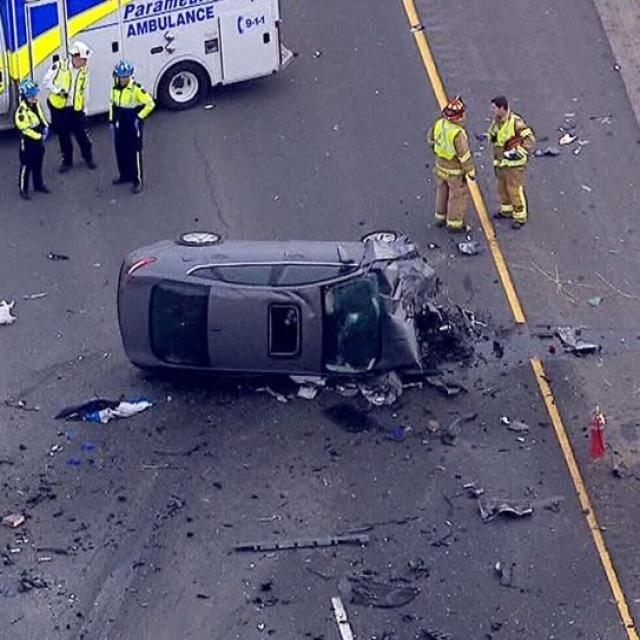traffic_incident: (96, 211, 474, 419)
